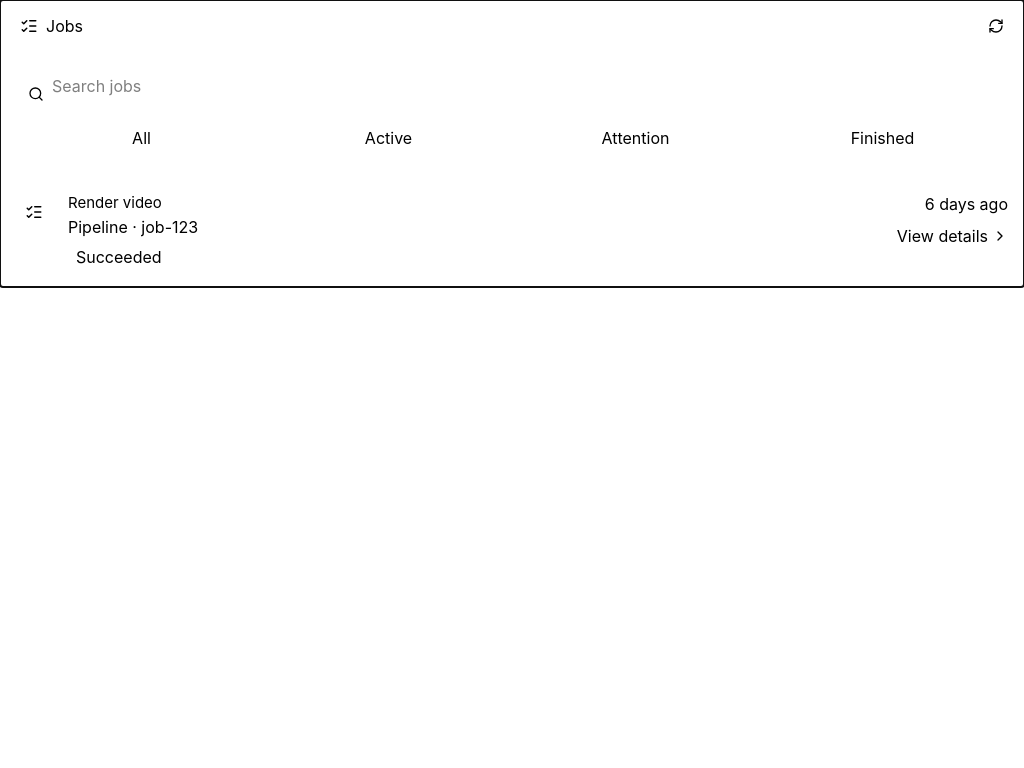
it: Jobs & QA discovery visibility › shows one date for same-day times and hides the first successful attempt card
What coordinates should you click on to do the following:
click the button "Render video"
I would click on:
 (115, 202)
Its box is 0,176 -> 1023,286.
(page scrolled)
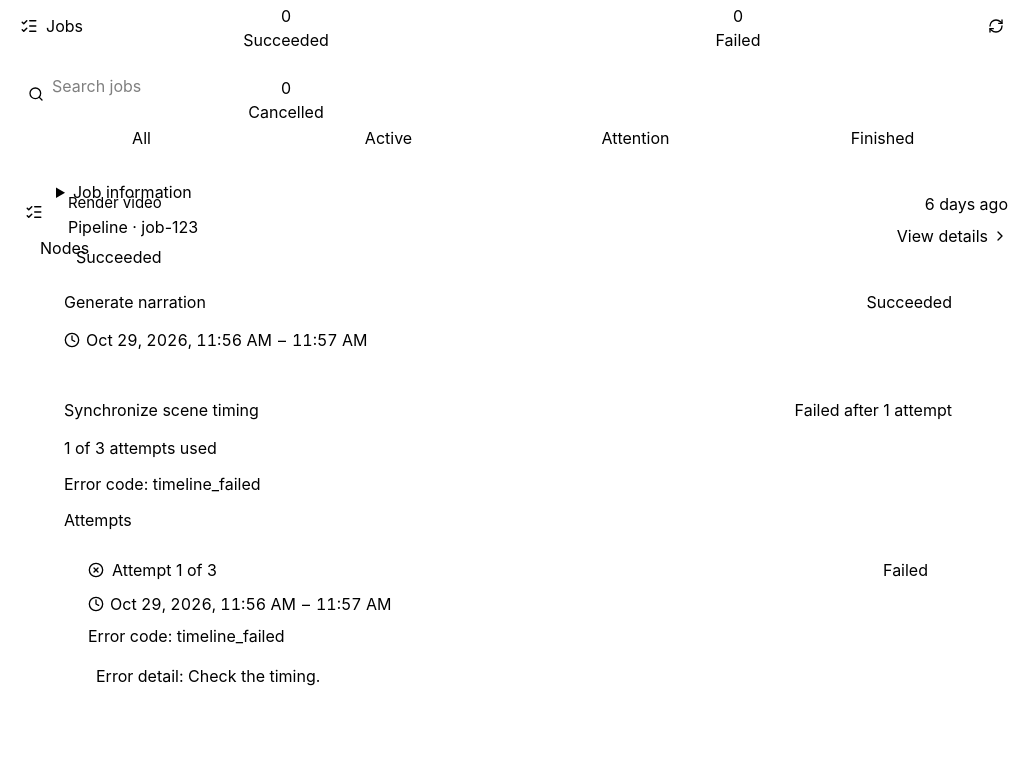
Result: the element labelled "Oct 29, 2026, 11:56 AM – 11:57 AM" below "Generate narration" is shown at 64,330 -> 368,350
Result: the text "Attempt 1 of 3" is shown at 112,558 -> 217,582
Result: the element labelled "Oct 29, 2026, 11:56 AM – 11:57 AM" below "1 of 3 attempts used" is shown at 88,594 -> 392,614
